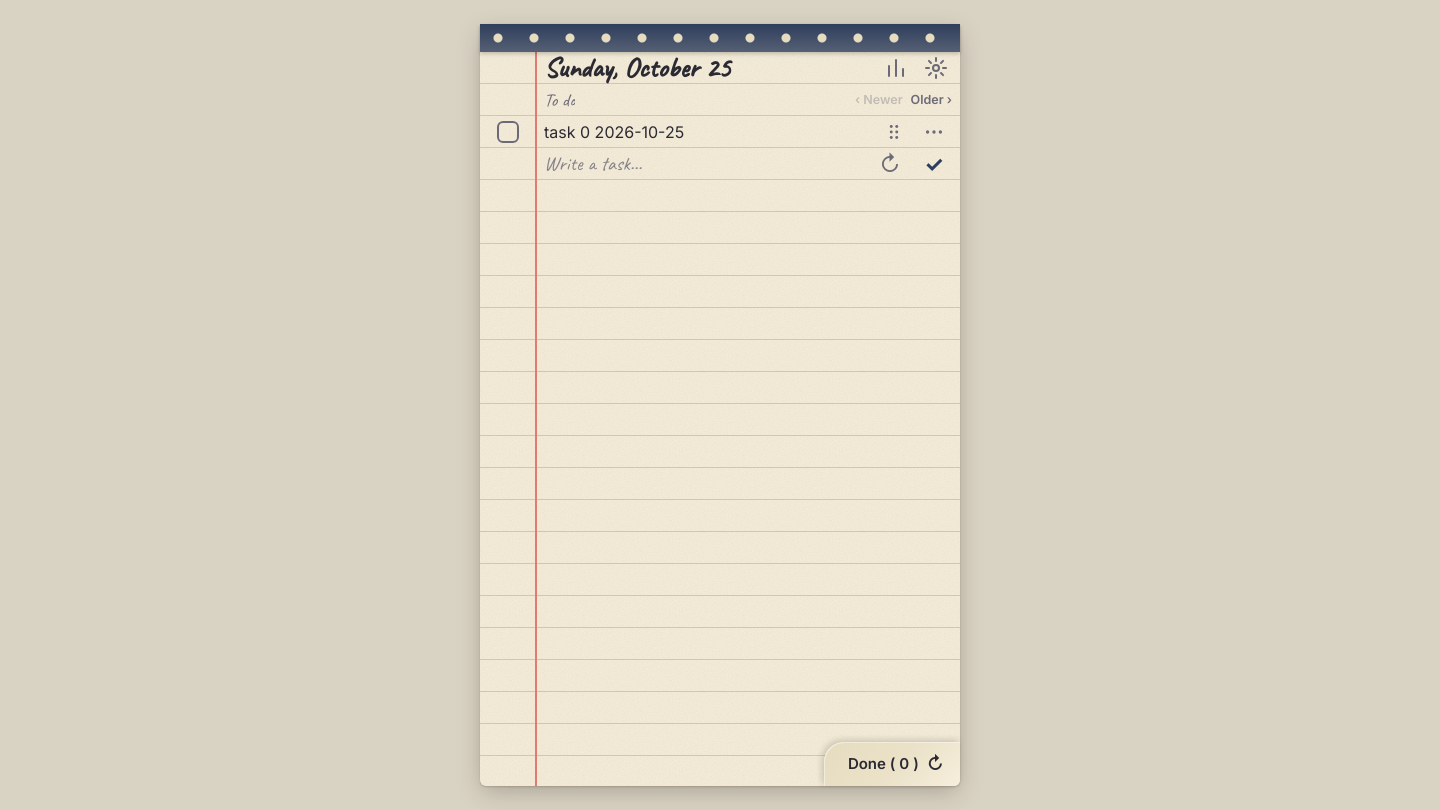
it: data safety information › suggests the Home Screen in a normal Safari tab
The width and height of the screenshot is (1440, 810).
Click the button named "Settings": [936, 68] box 916,46 -> 956,90
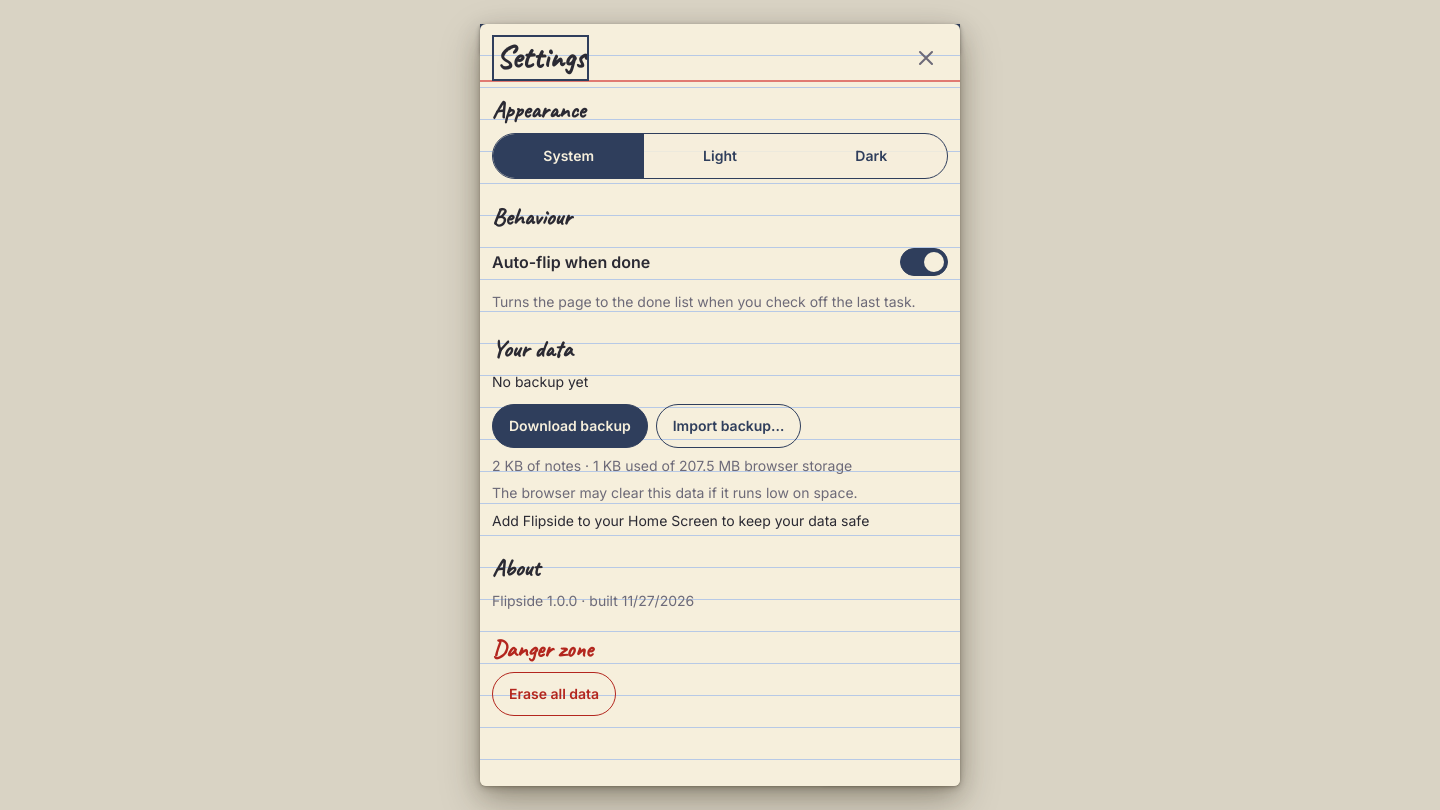
Expected: the dialog "Settings" is shown, 480,24 -> 960,786
Expected: the text "Add Flipside to your Home Screen to keep your data safe" is shown, 492,512 -> 869,529
